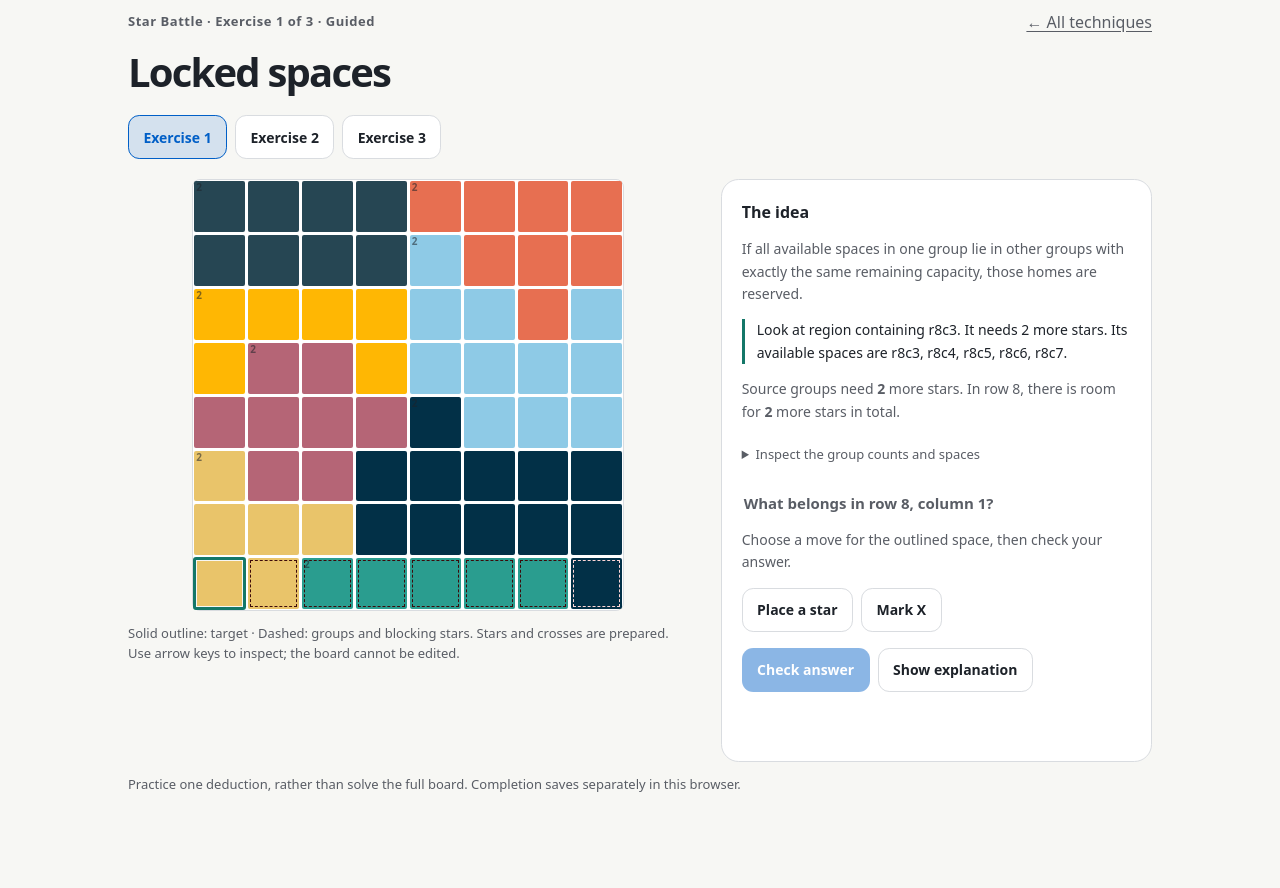
requires deliberate correct checking for star-battle-intersection and leaves other game storage intact
The width and height of the screenshot is (1280, 888).
Expected: the button "Check answer" is disabled, top-left (742, 648), bottom-right (870, 692)
Expected: the text with class "lesson-cue" is shown, top-left (742, 319), bottom-right (1131, 364)
Click the button "Place a star". click: {"x": 797, "y": 610}
box: top-left (742, 588), bottom-right (853, 632)
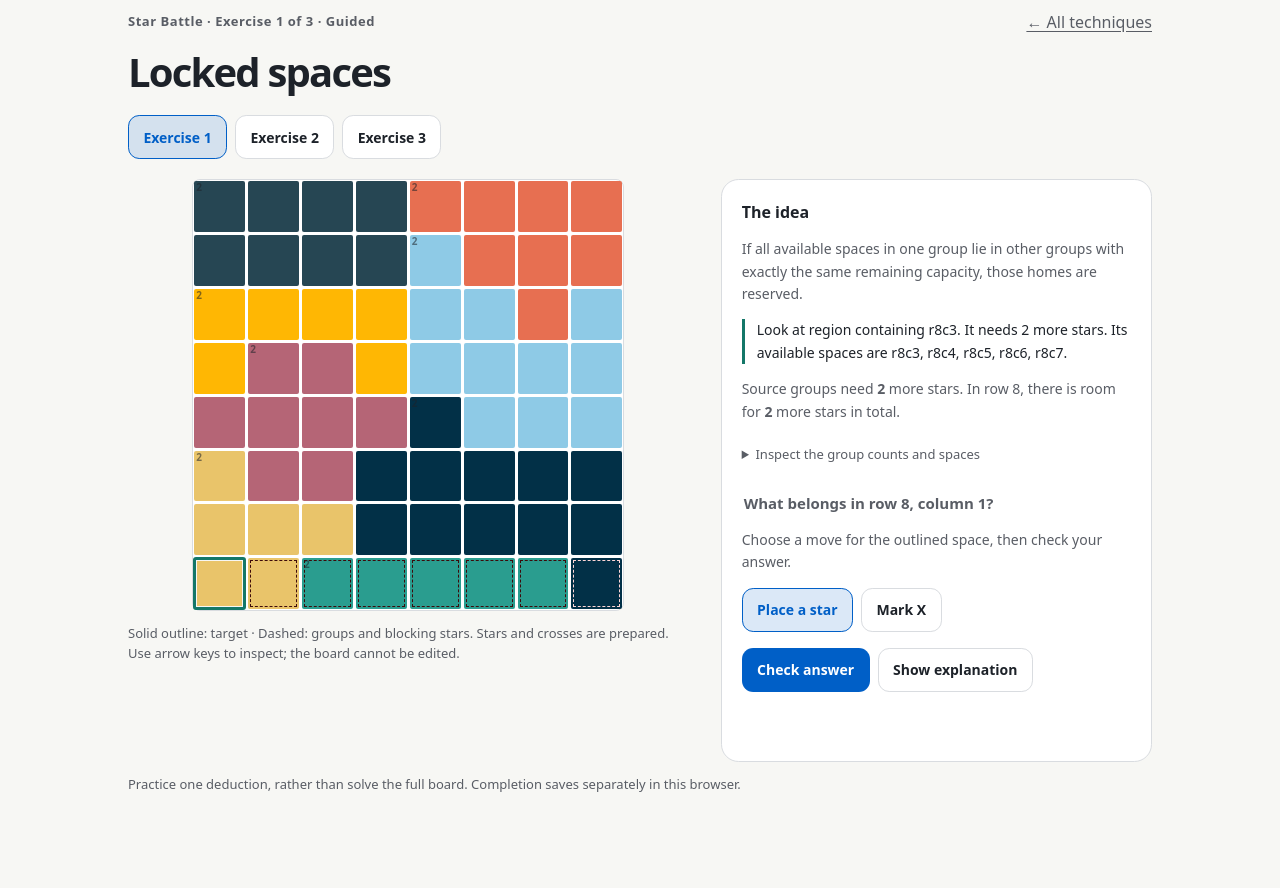
Click the button "Check answer". click: {"x": 806, "y": 670}
box: top-left (742, 648), bottom-right (870, 692)
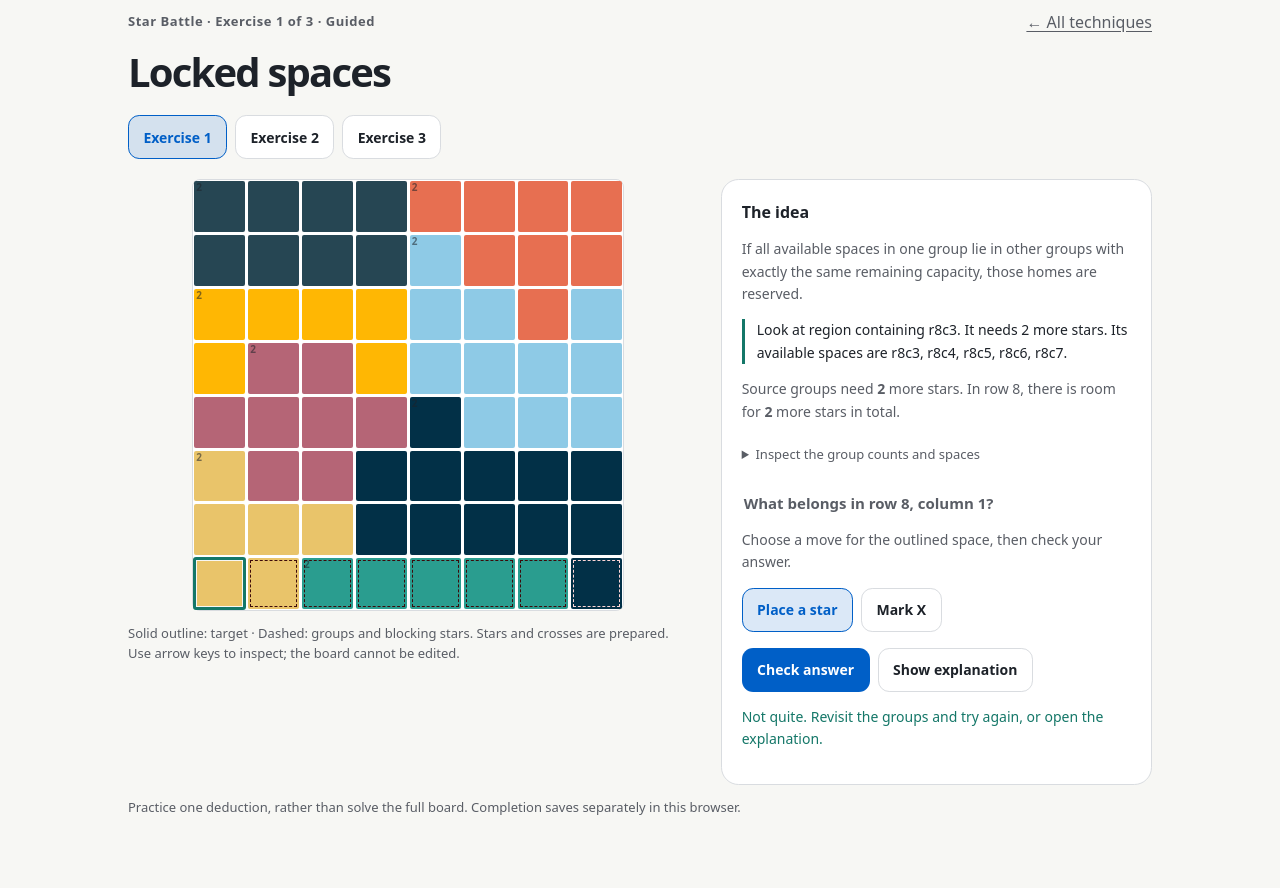
Expected: the message "Not quite. Revisit the groups and try again, or open the explanation." is shown, top-left (742, 706), bottom-right (1131, 750)
Click the button "Show explanation". click: {"x": 955, "y": 670}
box: top-left (878, 648), bottom-right (1033, 692)
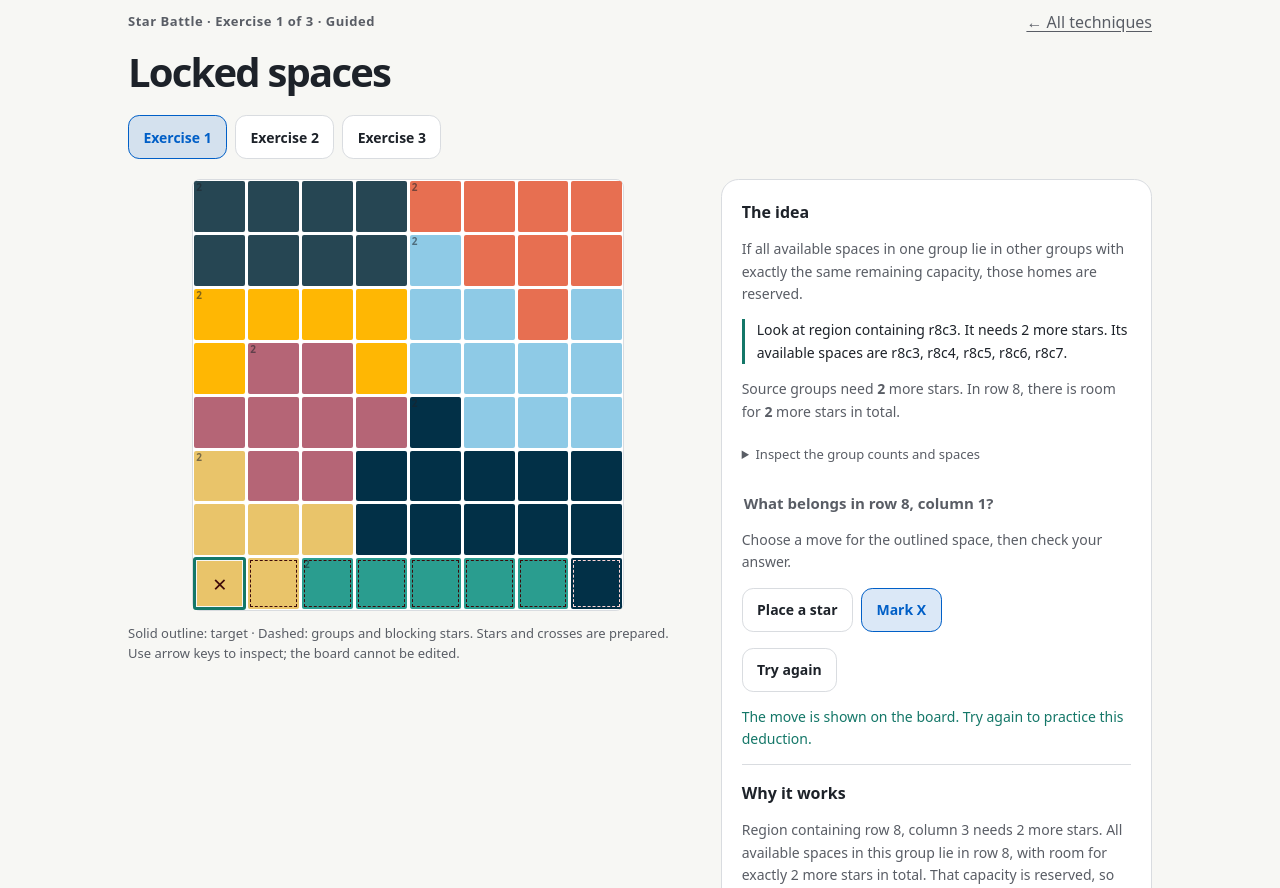
Expected: the element that starts with "What belongs in" is disabled, top-left (742, 492), bottom-right (1131, 632)
Click the button "Try again". click: {"x": 789, "y": 670}
box: top-left (742, 648), bottom-right (837, 692)
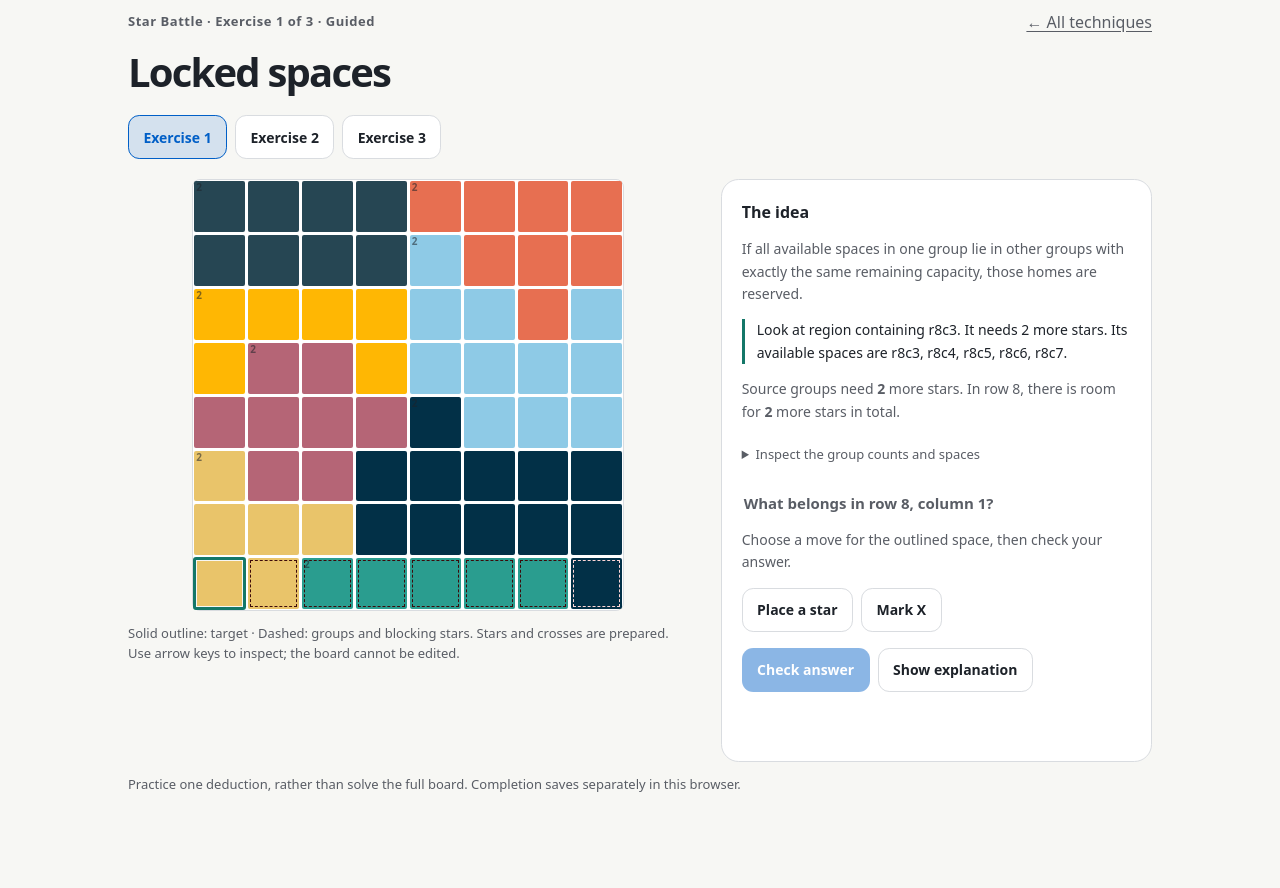
Expected: the button "Check answer" is disabled, top-left (742, 648), bottom-right (870, 692)
Click the button "Mark X". click: {"x": 901, "y": 610}
box: top-left (861, 588), bottom-right (942, 632)
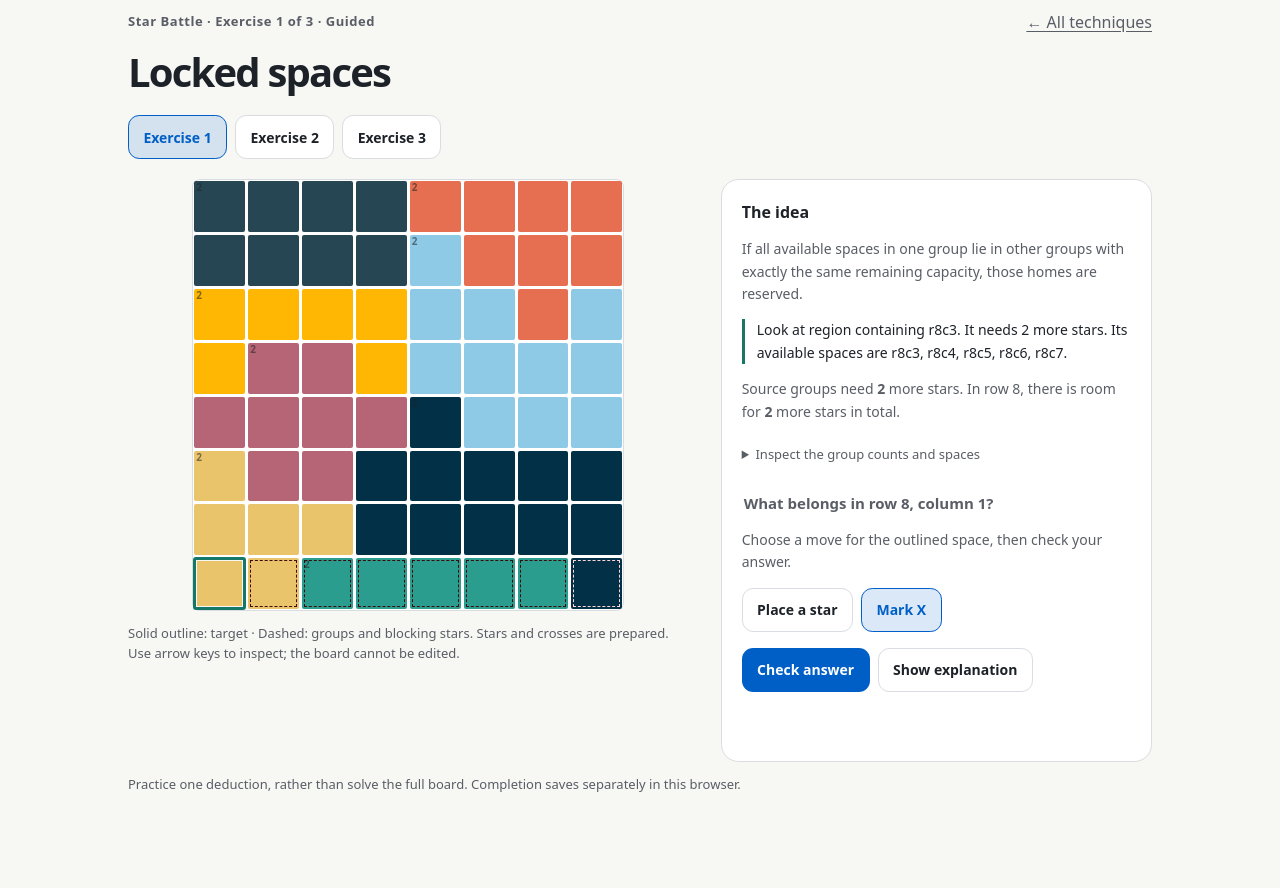
Click the button "Check answer". click: {"x": 806, "y": 670}
box: top-left (742, 648), bottom-right (870, 692)
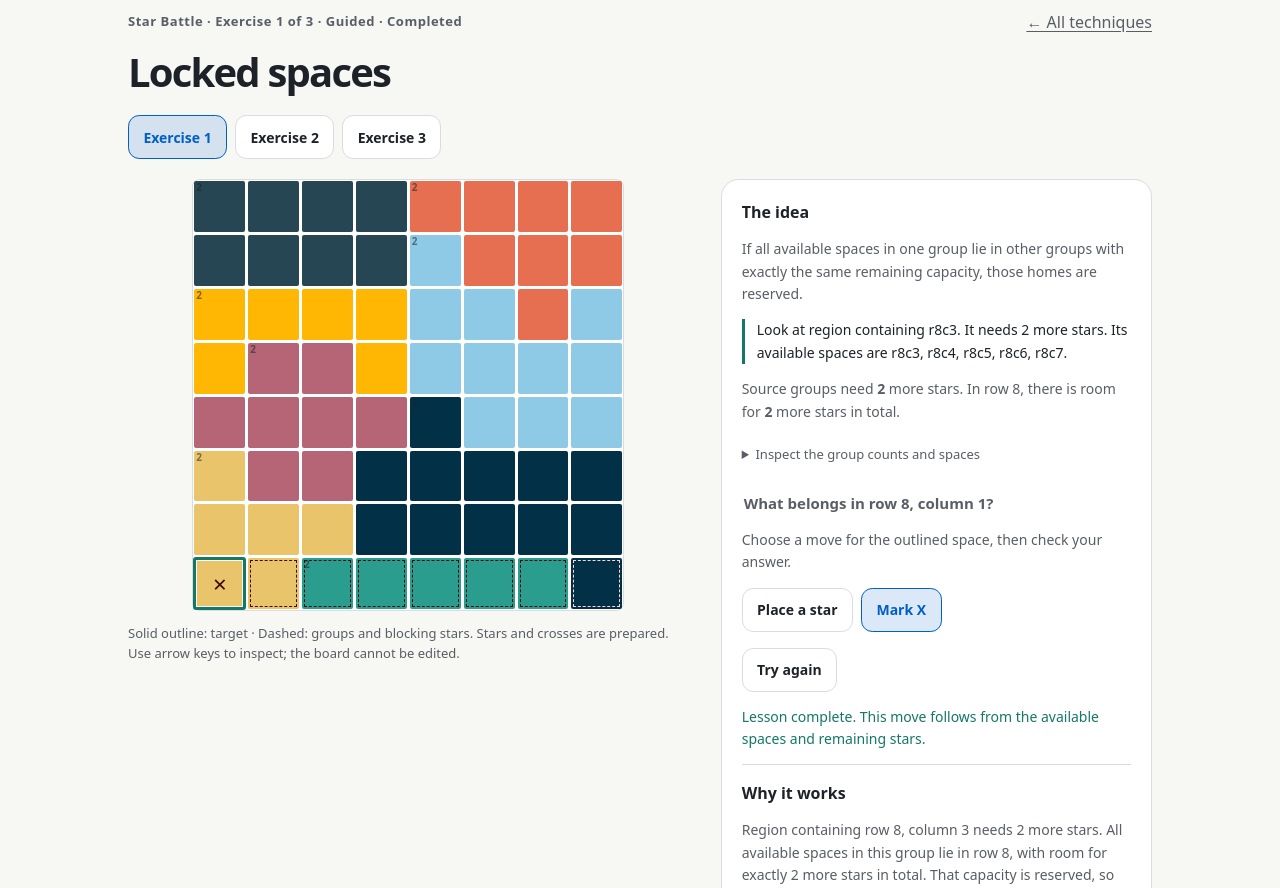
Expected: the message shows "Lesson complete", top-left (742, 707), bottom-right (1099, 748)
